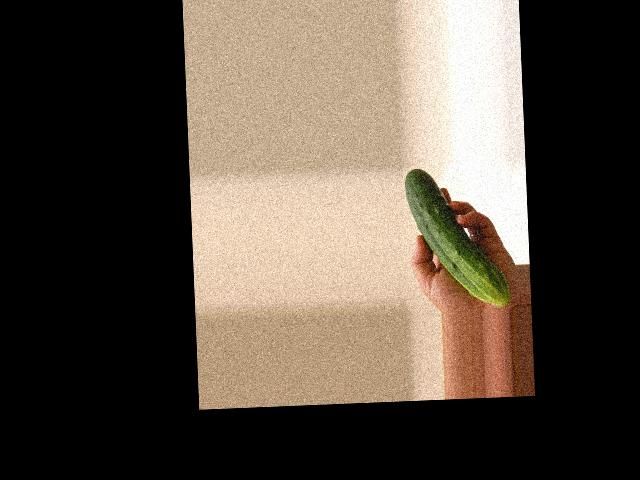cucumber: (405, 165, 511, 309)
